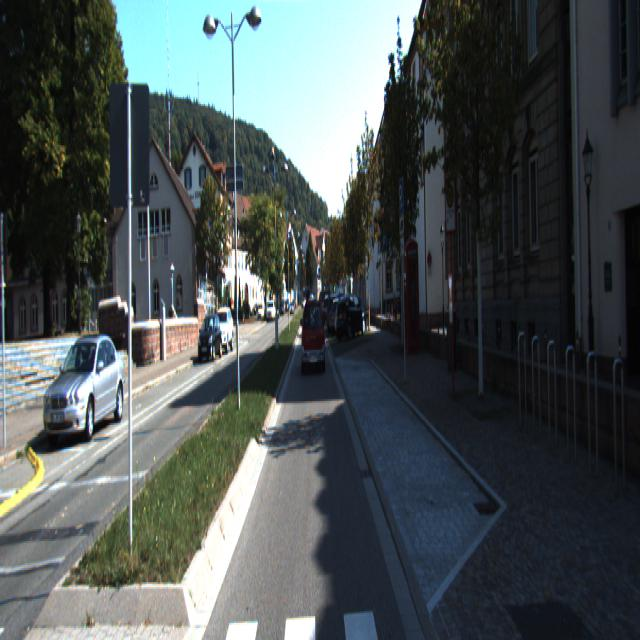Car: (43, 332, 127, 439), (302, 300, 326, 374), (336, 292, 368, 340), (197, 316, 223, 364), (329, 296, 360, 334), (211, 309, 234, 355)
